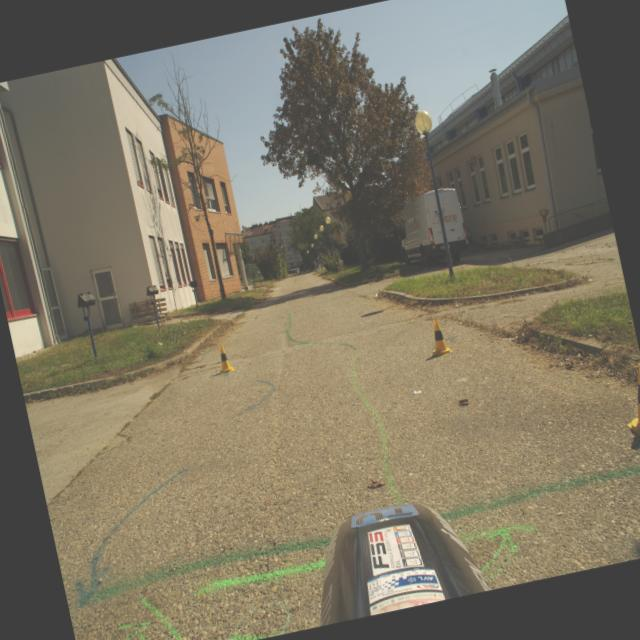yellow_cone: (613, 362, 640, 441), (422, 317, 453, 358), (214, 344, 234, 374)
